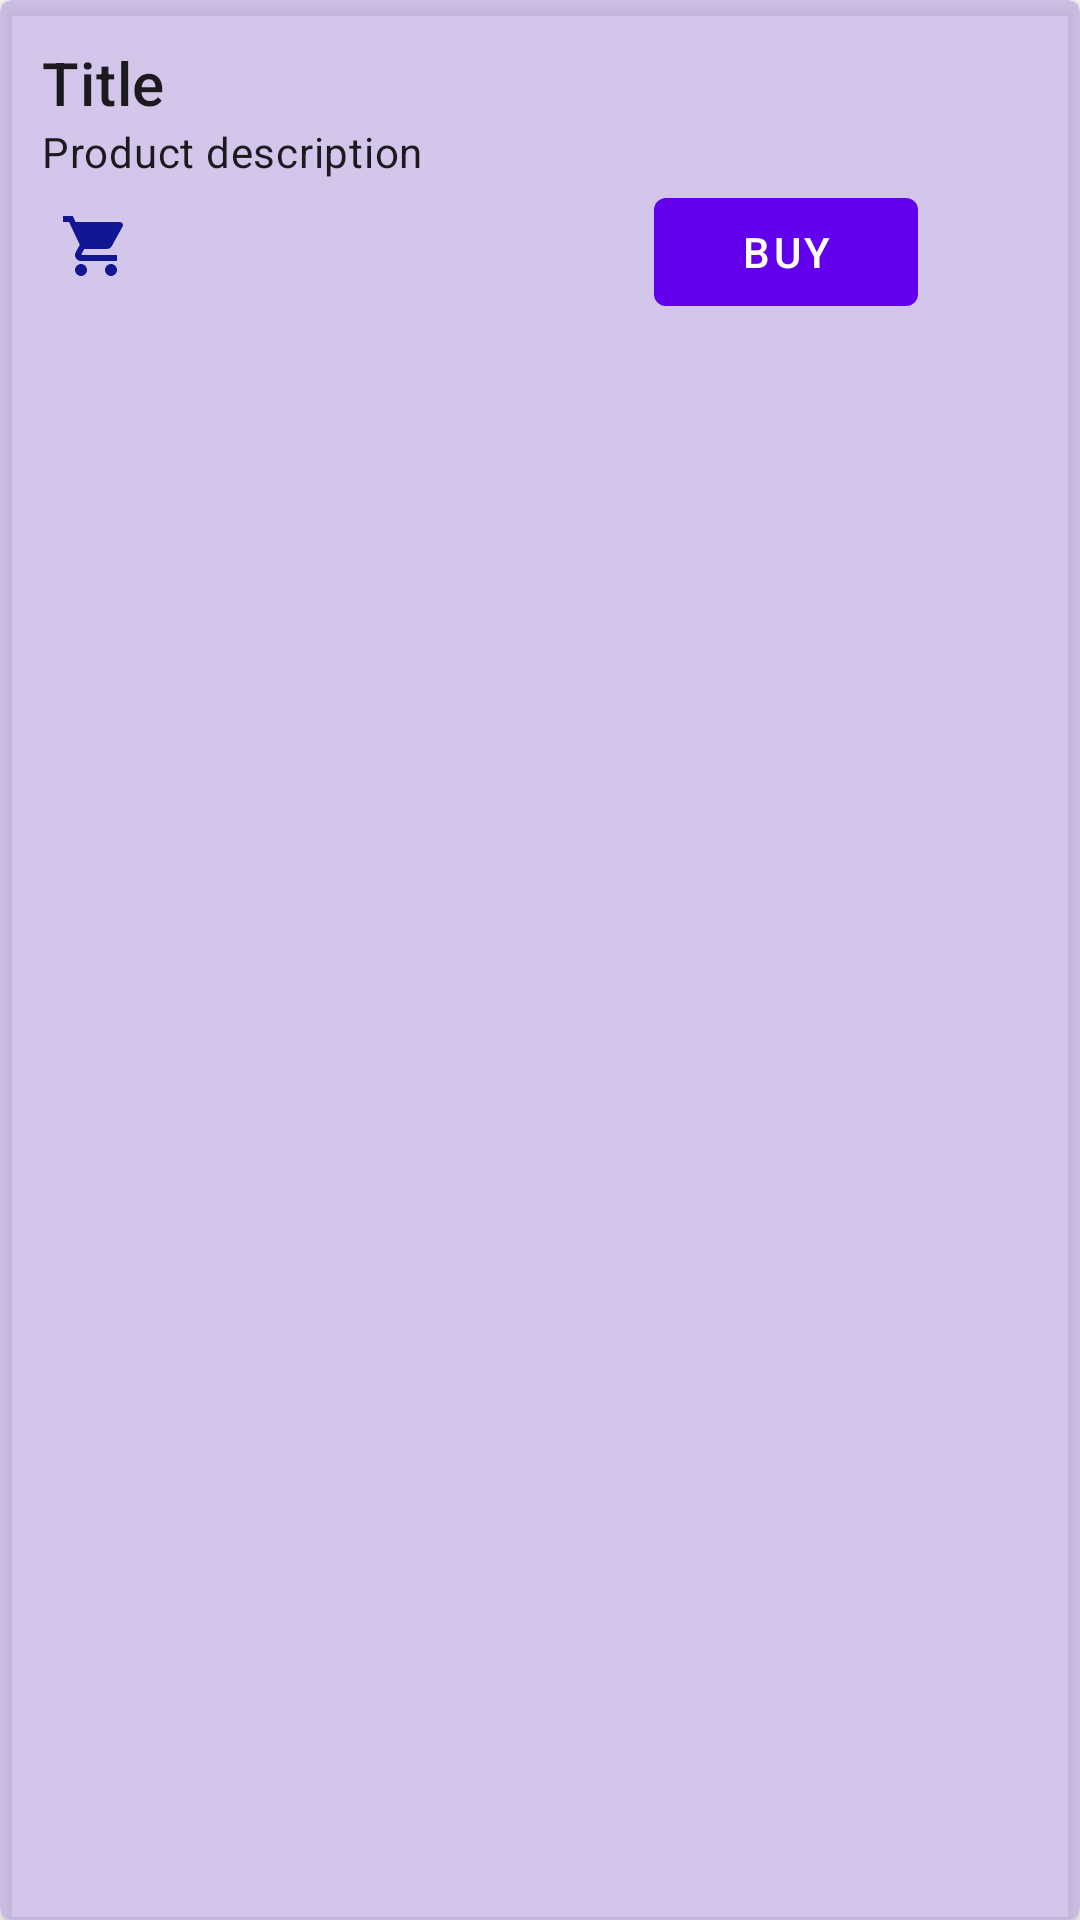

Screen size 1080px x 1920px. Icon name, then its center in pixels as (x=x, y=y):
shopping cart: (x=93, y=246)
